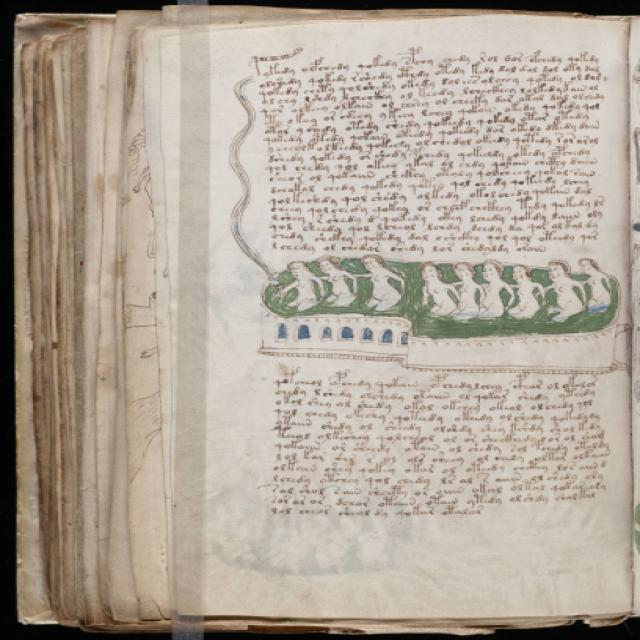people: (269, 253, 617, 326)
person: (357, 251, 411, 314), (274, 258, 328, 313), (471, 258, 514, 322), (314, 253, 362, 310), (546, 258, 585, 326), (575, 256, 616, 319), (418, 260, 459, 319), (506, 263, 547, 321), (451, 259, 483, 324)
